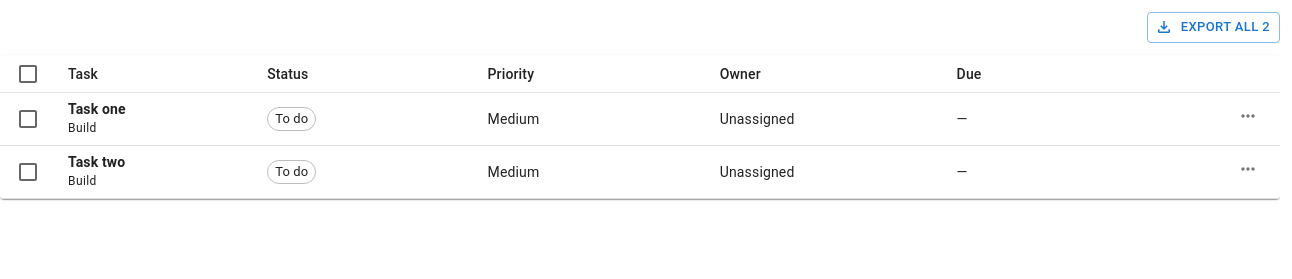
Test: TaskTable › ticks a task, the whole page, and clears
Click the checkbox named "Select Task one" at {"x": 28, "y": 119}, box [16,107,40,131]
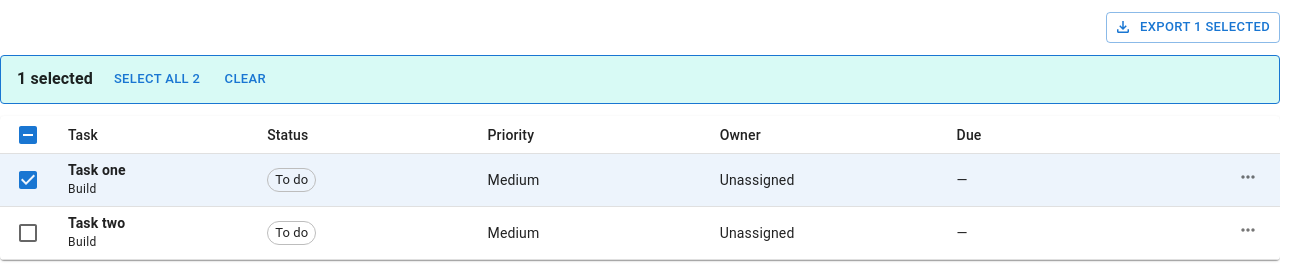
Expected: the text "1 selected" is shown, [17,69,93,88]
Click the checkbox named "Select all 2 on this page" at {"x": 28, "y": 135}, box [16,123,40,147]
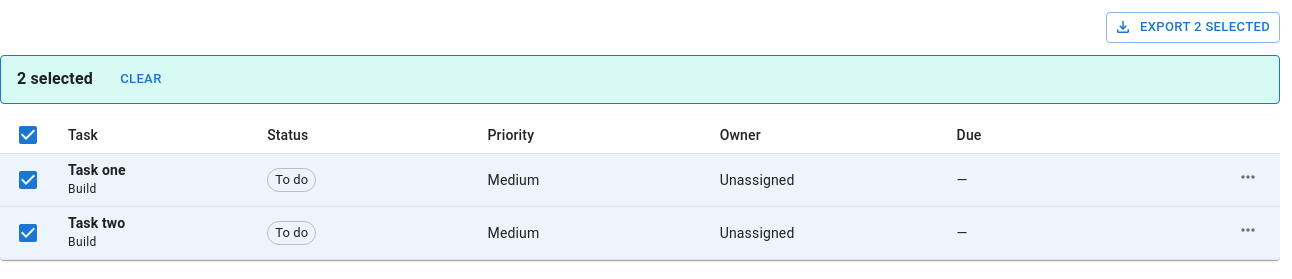
Expected: the text "2 selected" is shown, [17,69,93,88]
Click the button "Clear" at {"x": 141, "y": 79}, box [109,64,173,95]
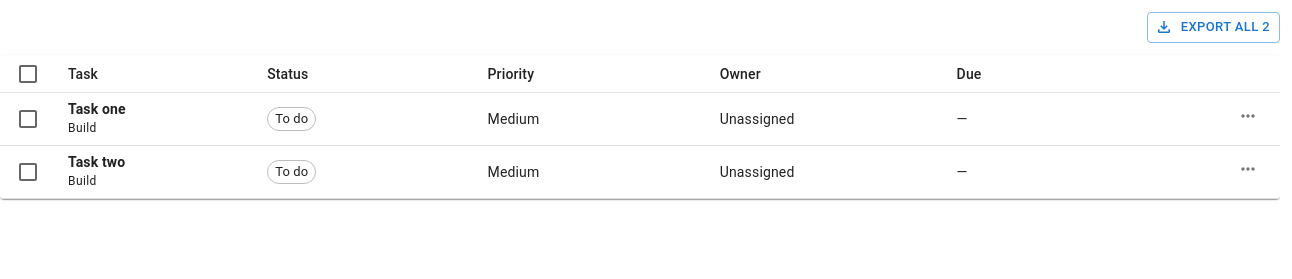
Expected: the button "selected" is gone
